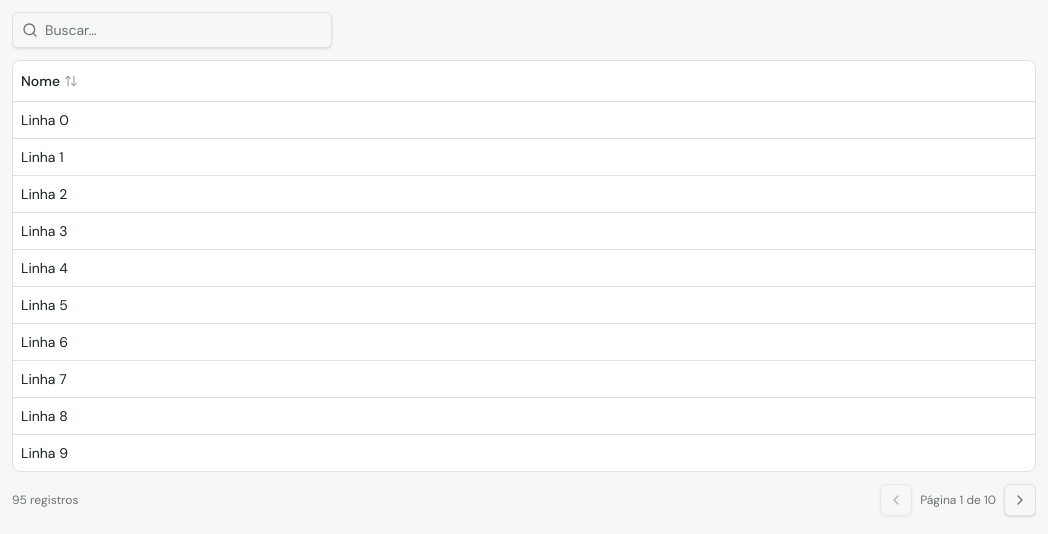
Test case: DataTable modo servidor › usa o total do servidor, não pagina localmente e não mostra o aviso de teto de 50
Expected: the text with test id "table-count" reads "95 registros", [12, 492, 78, 508]
Expected: the text "Página 1 de 10" is shown, [920, 492, 996, 508]
Click the button named "Próxima página". click: (1020, 500)
box: [1004, 484, 1036, 516]
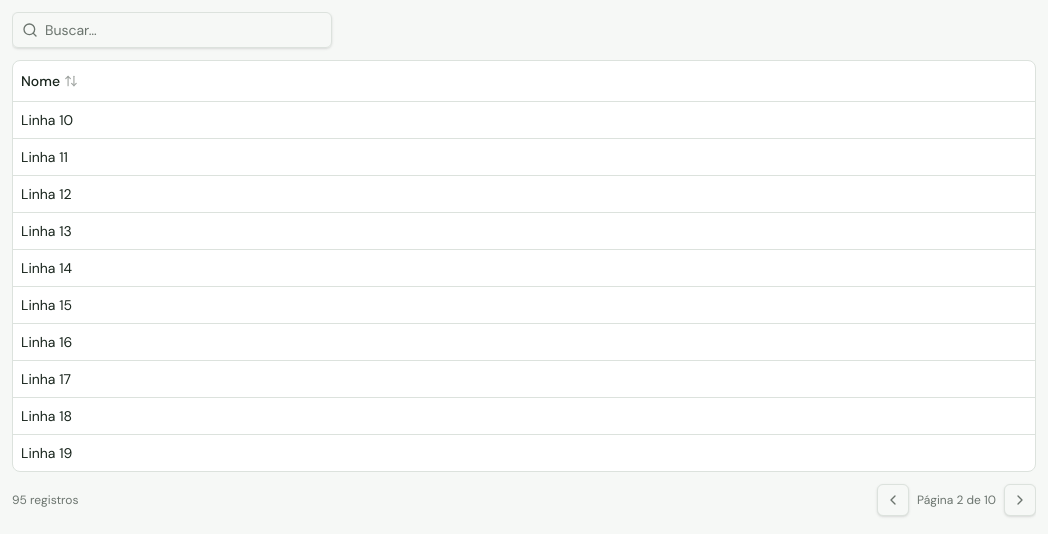
Expected: the text "Página 2 de 10" is shown, [917, 492, 996, 508]
Expected: the text "Linha 10" is shown, [13, 101, 1035, 138]
Expected: the button named "Página anterior" is enabled, [877, 484, 909, 516]
